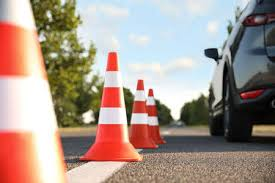car: (208, 1, 275, 143)
cone: (1, 1, 70, 182), (77, 50, 144, 163), (126, 79, 159, 149), (146, 89, 167, 144)
